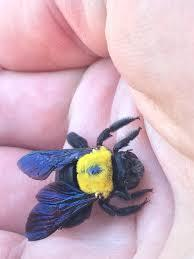Xylocopa: (15, 121, 154, 235)
